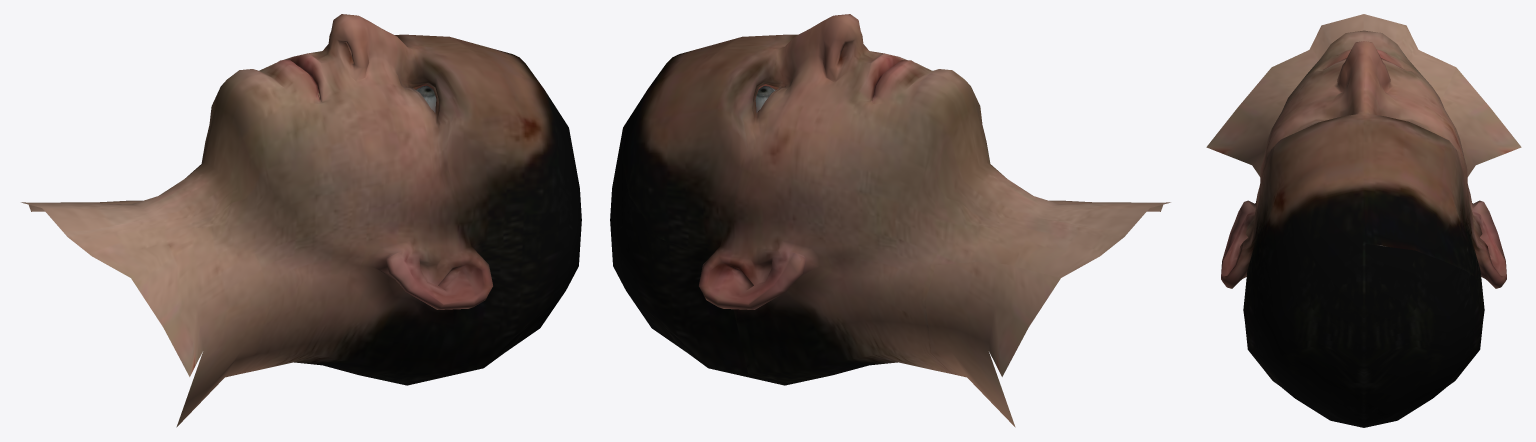
File: head_german_normandy_josh.glb
3 renders of one model, left to right at view 1: azimuth 30°, elevation 25°; view 2: azimuth 150°, elevation 25°; view 3: azimuth 270°, elevation 25°, orthographic. The views are drawn at different scales.
Size of the model in its own units: 14.67 by 10.09 by 8.64.
1 material, 1 textured.
